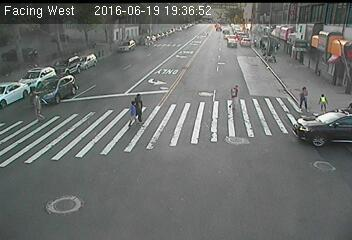neg: (176, 134, 200, 166), (223, 132, 247, 164), (267, 176, 287, 203), (120, 172, 140, 198), (51, 177, 71, 203), (208, 190, 227, 215), (181, 79, 199, 103), (310, 155, 328, 178), (152, 42, 169, 66), (69, 56, 86, 79), (226, 34, 242, 55), (115, 39, 130, 60), (294, 34, 309, 54), (298, 123, 313, 142)
pos: (23, 89, 49, 124), (223, 82, 247, 113), (293, 83, 313, 110), (122, 101, 142, 127), (319, 92, 334, 111), (133, 91, 147, 110)
